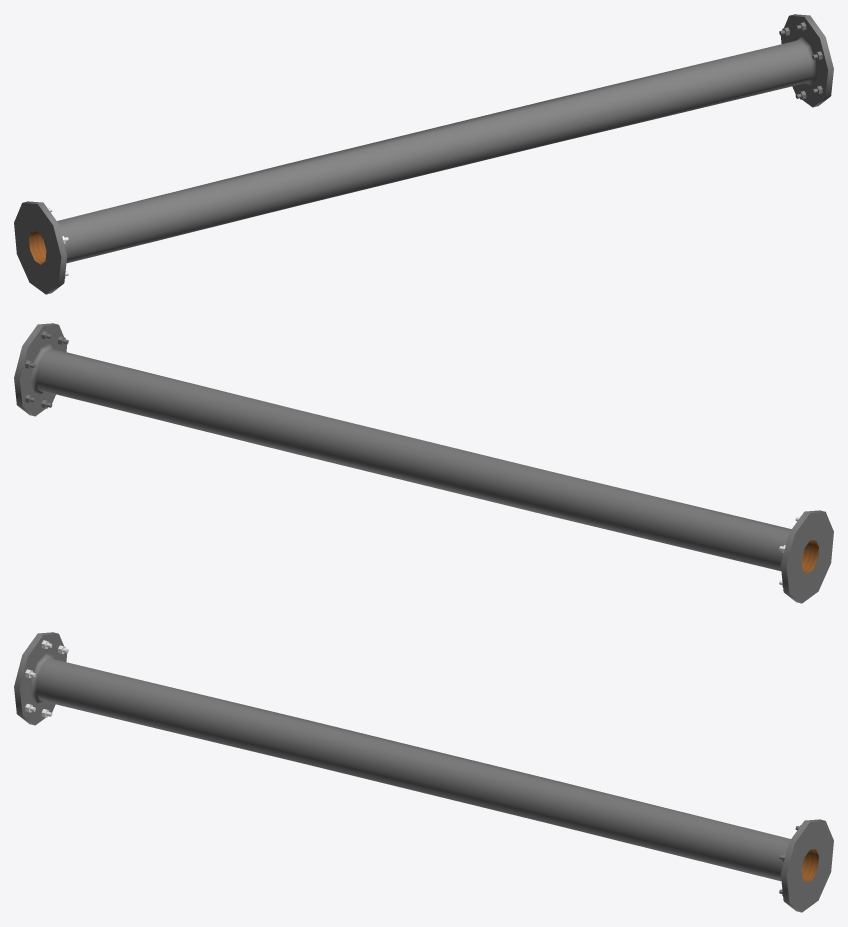
3 renders of one model, top to bottom at view 1: azimuth 30°, elevation 25°; view 2: azimuth 150°, elevation 25°; view 3: azimuth 330°, elevation 25°, orthographic.
Parts seen in each view (by area): view 1: Volumenkörper1; view 2: Volumenkörper1; view 3: Volumenkörper1.
Boxes of the visible parts, left/top/right/bottom form: Volumenkörper1: left=14, top=14, right=833, bottom=294; Volumenkörper1: left=14, top=323, right=833, bottom=603; Volumenkörper1: left=14, top=632, right=833, bottom=912.
Bounding box in the file's own units: 2 × 0.2095 × 0.2127.
Materials: 3 (1 with a texture image).
